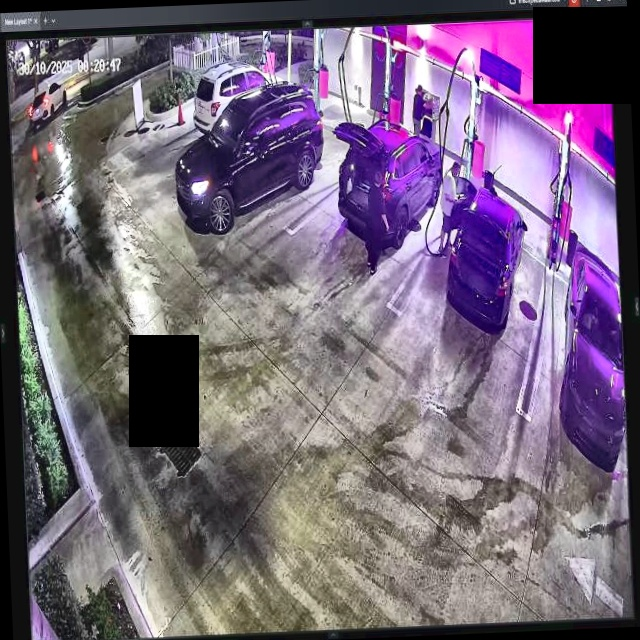Car: (172, 79, 327, 226), (441, 165, 528, 337), (332, 111, 445, 243)
